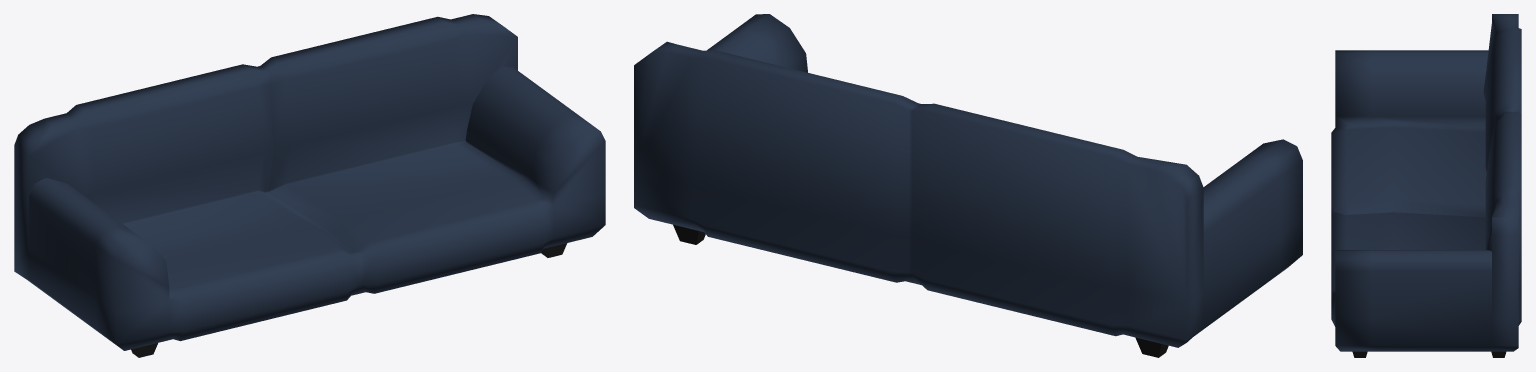
File: plush_loveseat.fbx
The picture shows the model from 3 angles, left to right: view 1: azimuth 30°, elevation 25°; view 2: azimuth 150°, elevation 25°; view 3: azimuth 270°, elevation 25°; orthographic projection. The views are drawn at different scales.
Parts seen in each view (by area): view 1: Couch.003; view 2: Couch.003; view 3: Couch.003.
Part boxes in pixels (bbox=[...]): Couch.003: bbox=[14, 14, 605, 357]; Couch.003: bbox=[634, 14, 1302, 357]; Couch.003: bbox=[1331, 14, 1521, 357].
Size of the model in its own units: 2.83 by 0.9803 by 1.07.
